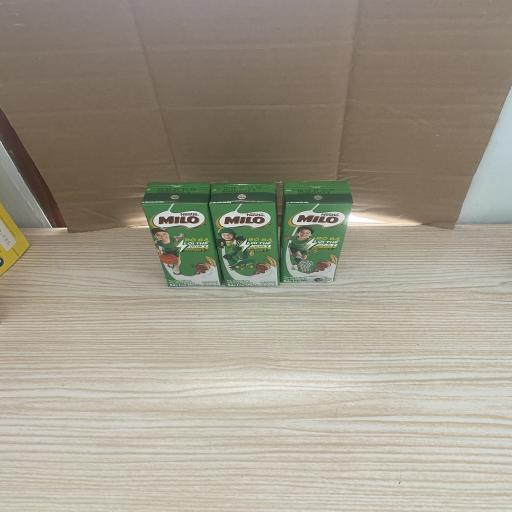milo: (142, 182, 222, 287), (281, 181, 353, 284), (209, 180, 278, 286)
